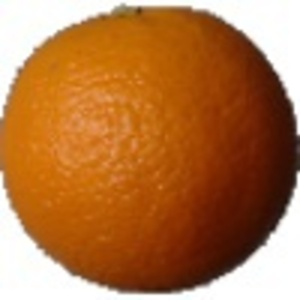laranja: (1, 2, 295, 296)
